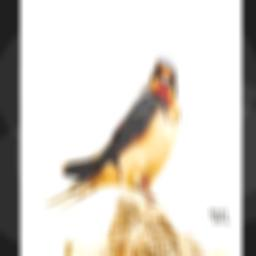Swallow: (46, 50, 182, 225)
